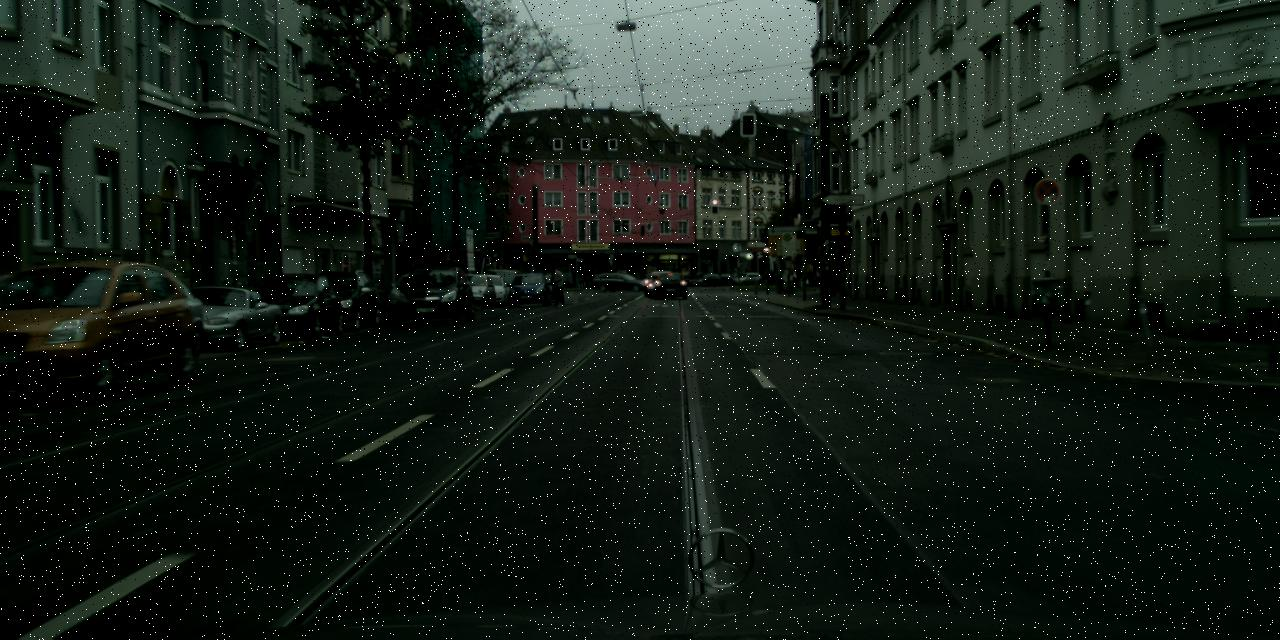ped: (548, 266, 563, 304)
